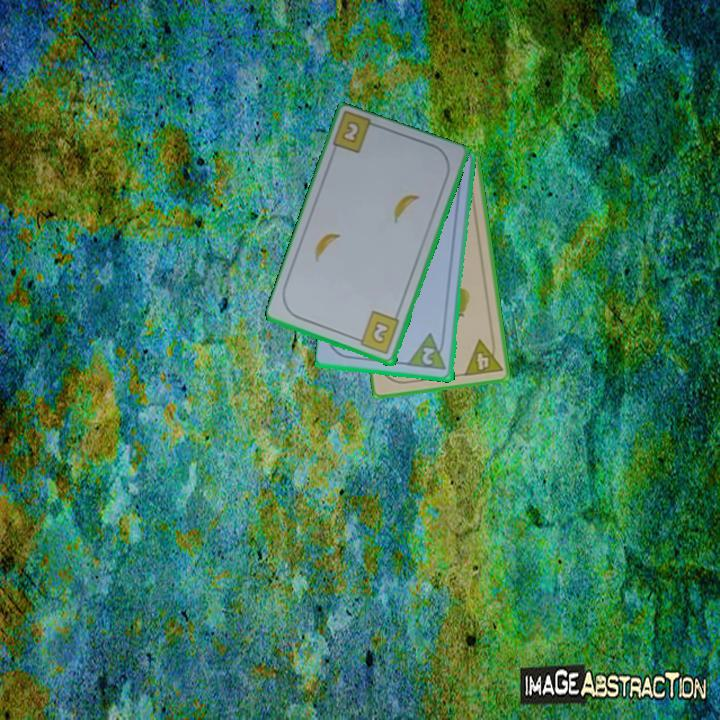2b: (352, 308, 402, 357), (338, 119, 361, 146)
2p: (406, 330, 449, 373)
4p: (461, 335, 505, 379)
